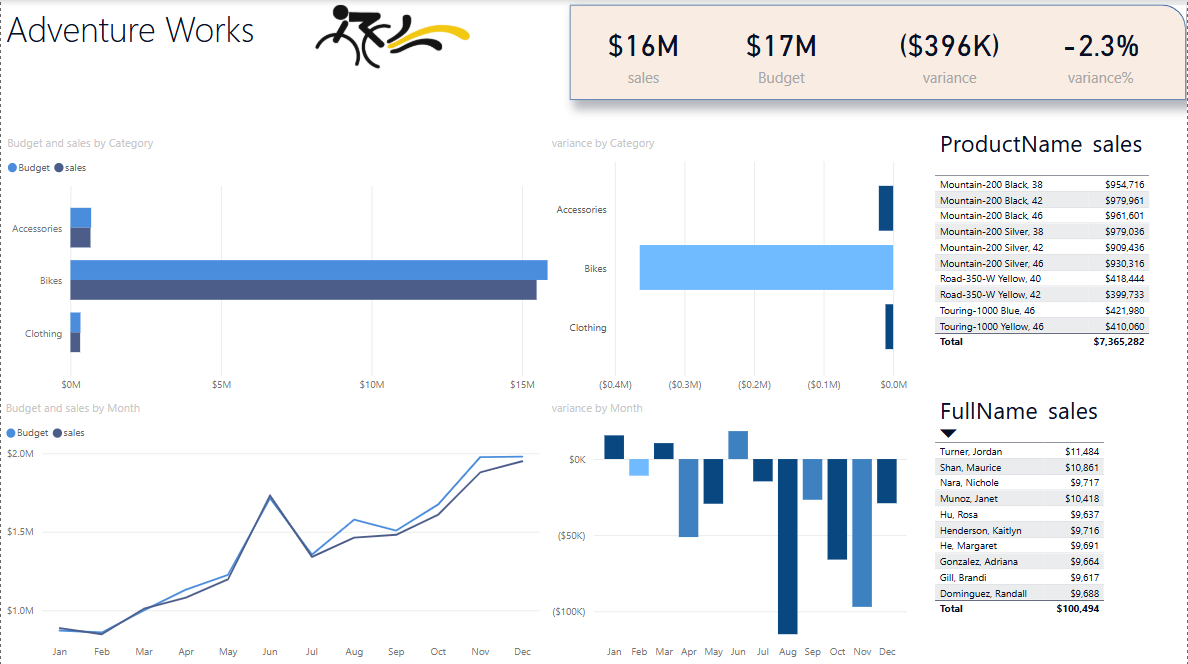

Layout of this report page (visuals, bound fields, positions):
{"tool":"powerbi","page":{"name":"Page 1","canvas":[1280,720],"ordinal":0},"visuals":[{"type":"shape","box":[613.7,4.9,665.5,103.6],"z":0},{"type":"card","fields":{"Values":["Sales.sales"]},"box":[612.3,0,162.5,113.4],"z":2000},{"type":"textbox","box":[0,0,585.8,96.4],"z":3000},{"type":"image","box":[308,0,223,81.3],"z":4000},{"type":"card","fields":{"Values":["Budget.Budget"]},"box":[761.6,0,162.5,113.4],"z":5000},{"type":"card","fields":{"Values":["Budget.variance"]},"box":[924.1,0,198.4,113.4],"z":6000},{"type":"card","fields":{"Values":["Budget.variance%"]},"box":[1105.9,0,161.9,113.3],"z":7000},{"type":"clusteredBarChart","fields":{"Y":["Budget.Budget","Sales.sales"],"Category":["Product.Category","Product.SubCategory"]},"box":[1.6,145.7,612.1,286.6],"z":7001},{"type":"clusteredBarChart","fields":{"Category":["Product.Category","Product.SubCategory"],"Y":["Budget.variance"]},"box":[589.4,145.7,393.5,286.6],"z":7002},{"type":"lineChart","fields":{"Y":["Budget.Budget","Sales.sales"],"Category":["Calendar.Month"]},"box":[0,432.3,586.2,288.2],"z":7003},{"type":"clusteredColumnChart","fields":{"Category":["Calendar.Month"],"Y":["Budget.variance"]},"box":[589.4,432.3,393.5,288.2],"z":7004},{"type":"tableEx","fields":{"Values":["Product.ProductName","Sales.sales"]},"box":[1002.3,131.2,276.9,301.2],"z":7005},{"type":"tableEx","fields":{"Values":["Customer.FullName","Sales.sales"]},"box":[1002.3,419.4,276.9,301.2],"z":7006}]}

Visuals, with their boxes in screenshot pixels (x1, y1, x2, y2), scaled from the page's 1280x720 canvas onto the 1188x664 screenshot:
shape: x1=570, y1=5, x2=1187, y2=100
card - Sales.sales: x1=568, y1=0, x2=719, y2=105
textbox: x1=0, y1=0, x2=544, y2=89
image: x1=286, y1=0, x2=493, y2=75
card - Budget.Budget: x1=707, y1=0, x2=858, y2=105
card - Budget.variance: x1=858, y1=0, x2=1042, y2=105
card - Budget.variance%: x1=1026, y1=0, x2=1177, y2=104
clusteredBarChart - Budget.Budget x Sales.sales: x1=1, y1=134, x2=570, y2=399
clusteredBarChart - Product.Category x Product.SubCategory: x1=547, y1=134, x2=912, y2=399
lineChart - Budget.Budget x Sales.sales: x1=0, y1=399, x2=544, y2=663
clusteredColumnChart - Calendar.Month x Budget.variance: x1=547, y1=399, x2=912, y2=663
tableEx - Product.ProductName x Sales.sales: x1=930, y1=121, x2=1187, y2=399
tableEx - Customer.FullName x Sales.sales: x1=930, y1=387, x2=1187, y2=663
